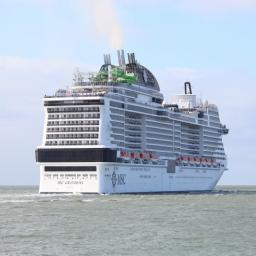cruises: (35, 44, 232, 201)
